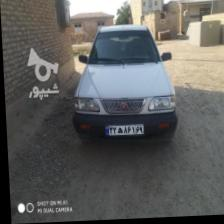plate: (103, 123, 144, 137)
